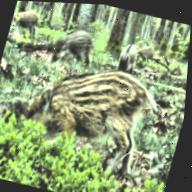boar: (0, 39, 173, 191)
